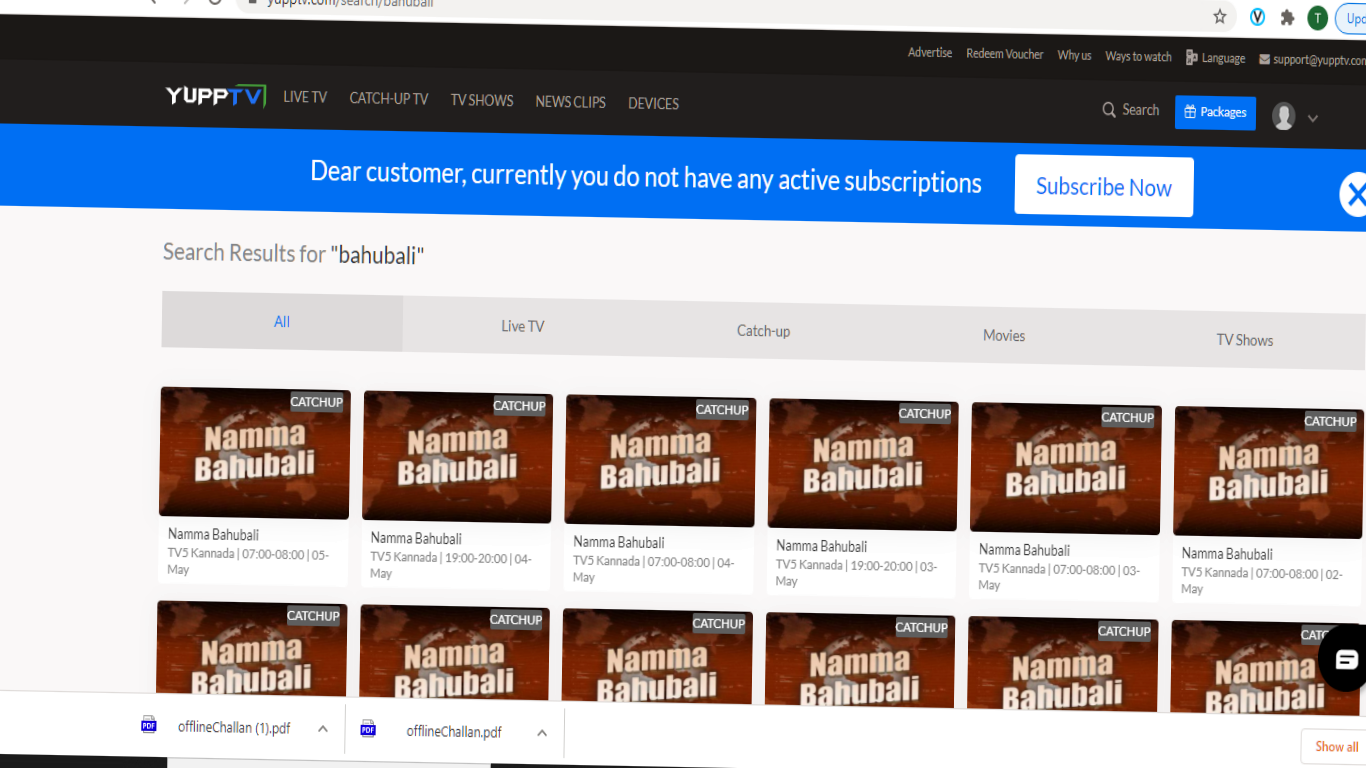profileicon: (1264, 93, 1325, 146)
resultsfound: (157, 226, 459, 279)
searchicon: (1089, 89, 1166, 123)
